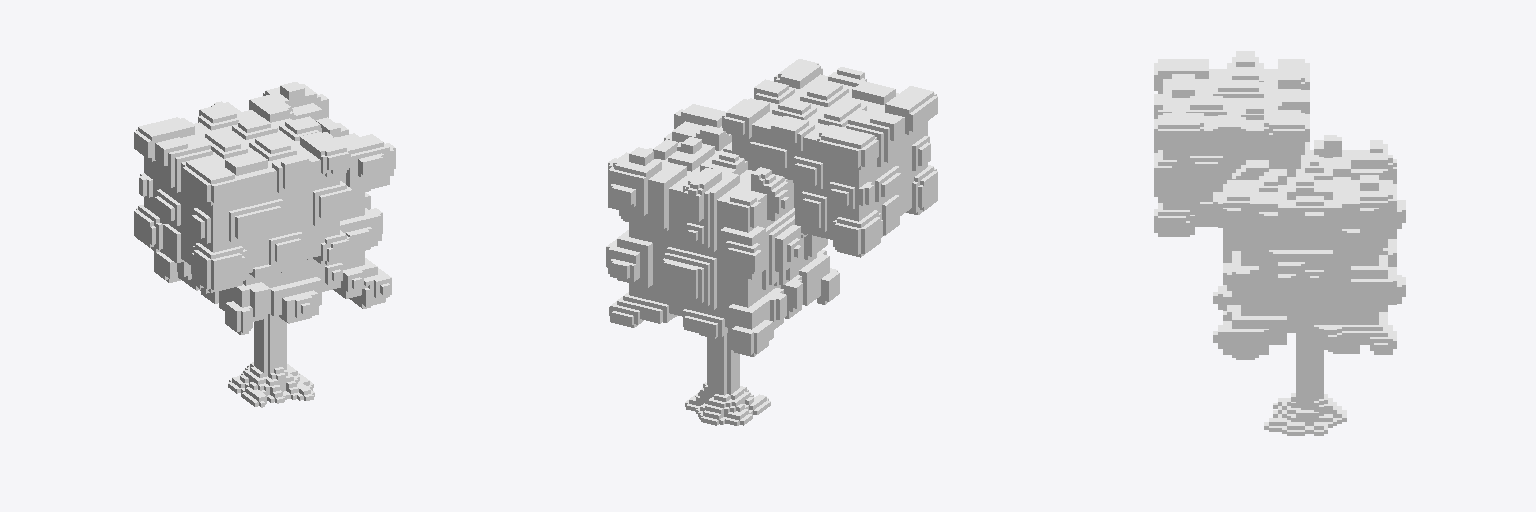
File: tree_cyber_02.obj
3 views of the same model, side by side, from view 1: azimuth 30°, elevation 25°; view 2: azimuth 150°, elevation 25°; view 3: azimuth 270°, elevation 25° (orthographic).
Parts seen in each view (by area): view 1: object 1; view 2: object 1; view 3: object 1.
Boxes of the visible parts, x1=… form: object 1: x1=134, y1=82, x2=395, y2=407; object 1: x1=606, y1=59, x2=937, y2=425; object 1: x1=1154, y1=51, x2=1405, y2=435.
Size of the model in its own units: 5.7 by 7.2 by 5.5.